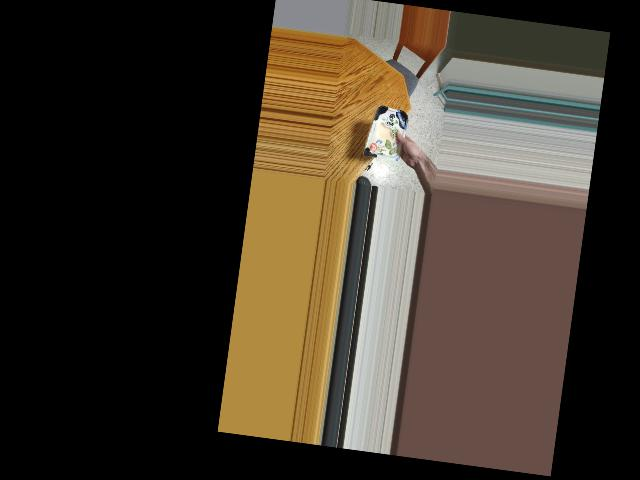cheese: (362, 105, 415, 162)
